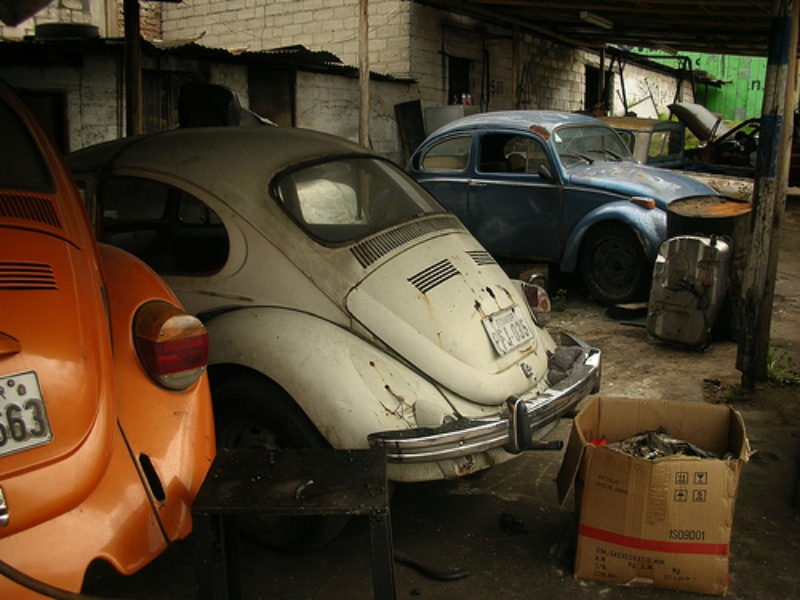car: (64, 125, 602, 480), (1, 79, 217, 600), (404, 110, 722, 301)
